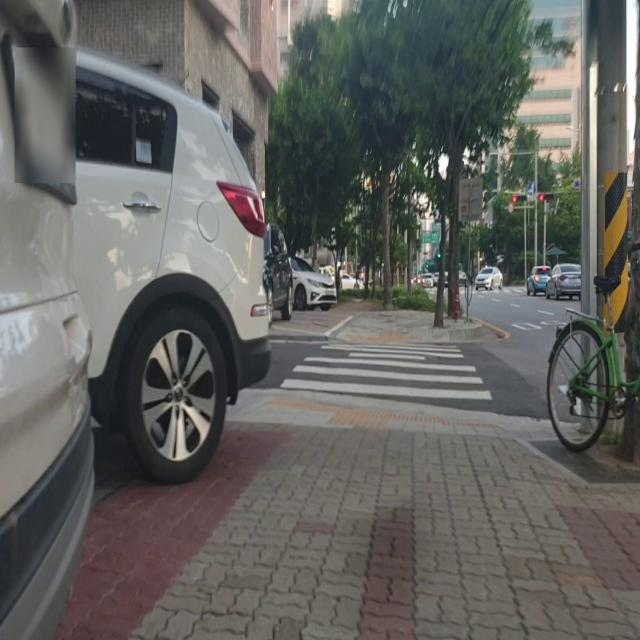횡단보도: (279, 342, 494, 403)
